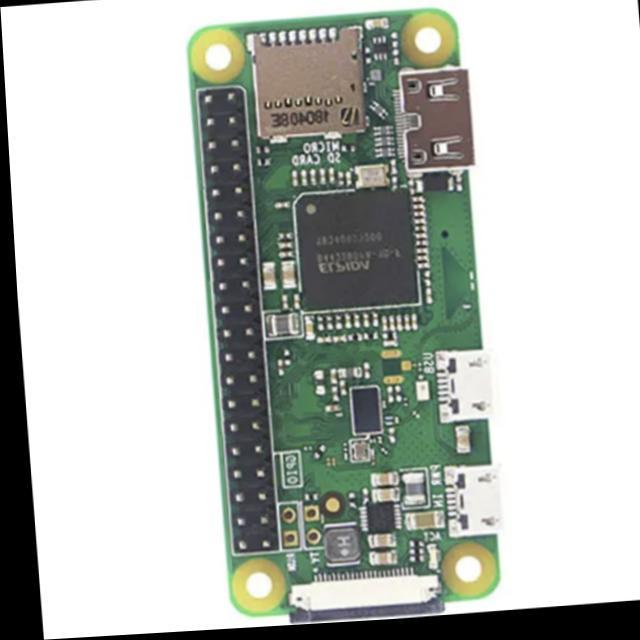Raspberry-Pi-Zero-WH: (189, 10, 500, 623)
